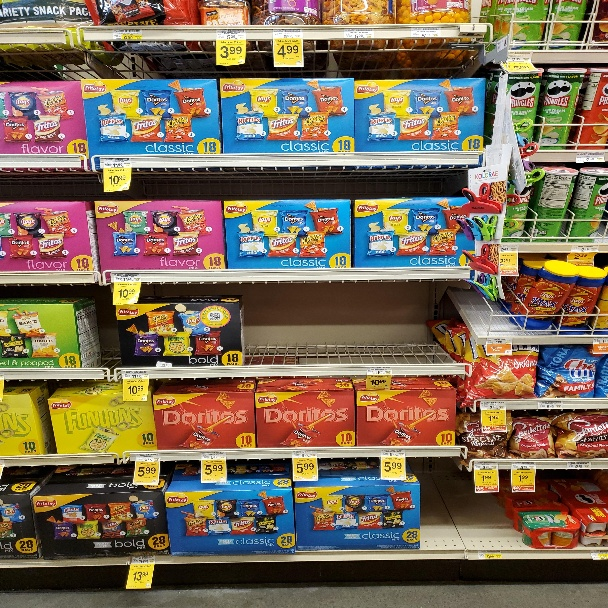All PRICE TAGS: (344, 28, 372, 39), (216, 30, 246, 40), (113, 29, 142, 39), (411, 28, 440, 38), (103, 158, 132, 168), (577, 153, 605, 163), (273, 30, 303, 39), (507, 51, 531, 62), (113, 273, 141, 282), (482, 401, 506, 411), (201, 451, 226, 460), (477, 551, 503, 559), (366, 367, 392, 375), (511, 462, 536, 470), (380, 449, 405, 457), (123, 370, 148, 378), (474, 461, 498, 469), (292, 450, 316, 458), (136, 453, 160, 461), (486, 338, 513, 345), (567, 461, 590, 469), (537, 401, 560, 409), (589, 550, 607, 560), (131, 556, 155, 563), (500, 244, 519, 252), (593, 338, 608, 344)
